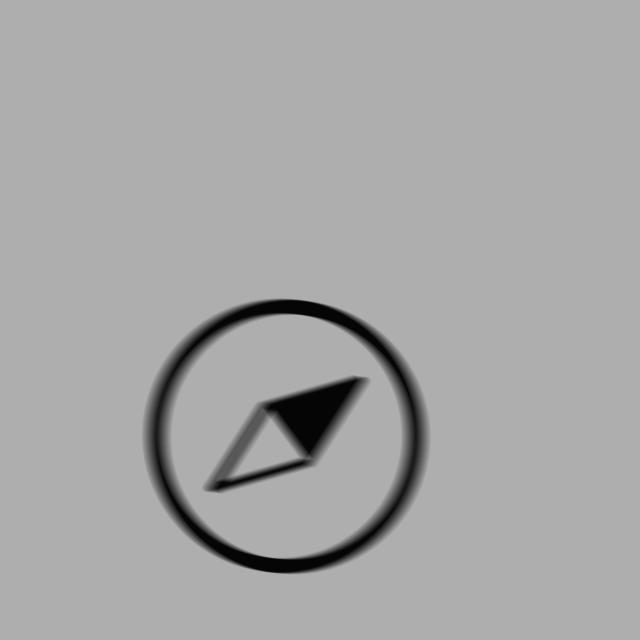compass: (134, 294, 437, 585)
